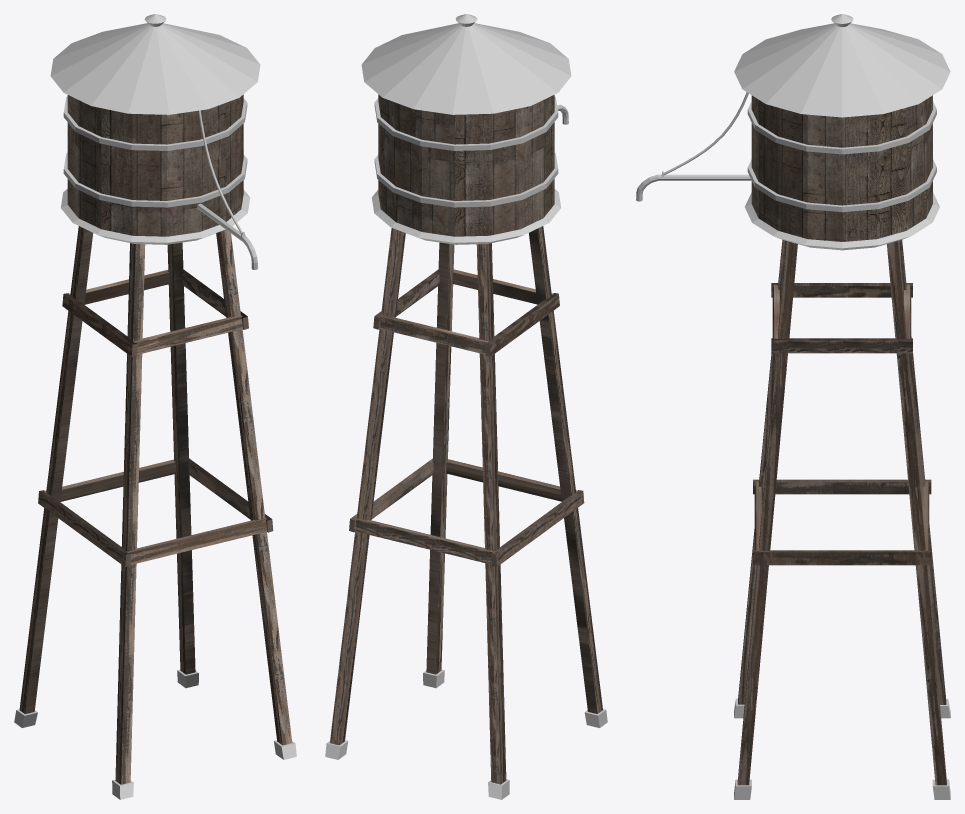
File: torre_agua.obj
3 views of the same model, side by side, from view 1: azimuth 30°, elevation 25°; view 2: azimuth 150°, elevation 25°; view 3: azimuth 270°, elevation 25° (orthographic). The views are drawn at different scales.
Parts seen in each view (by area): view 1: Cube.002, Cylinder; view 2: Cube.002, Cylinder; view 3: Cylinder, Cube.002.
Boxes of the visible parts, x1,y1,x2,y2 form: Cube.002: (14, 226, 296, 799); Cylinder: (50, 14, 260, 269); Cube.002: (325, 226, 607, 799); Cylinder: (361, 14, 571, 244); Cylinder: (636, 14, 950, 250); Cube.002: (734, 240, 950, 799).
Size of the model in its own units: 1.05 by 3.98 by 1.53.
